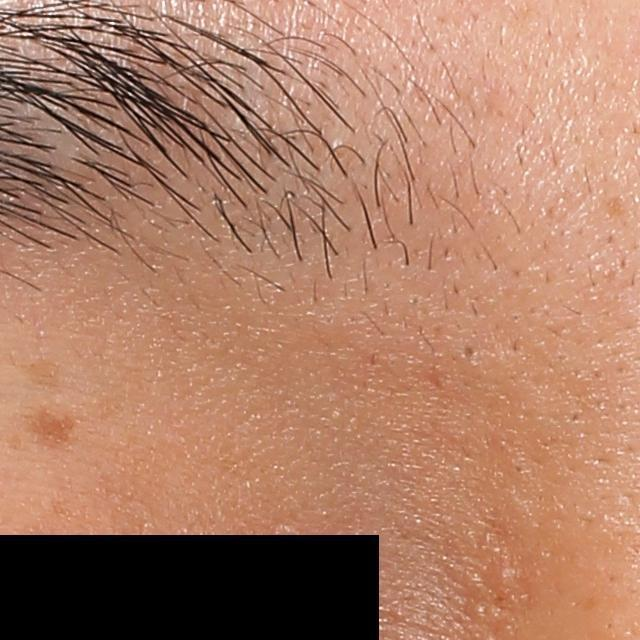comedo: (462, 341, 479, 360)
melasma: (22, 409, 84, 452)
